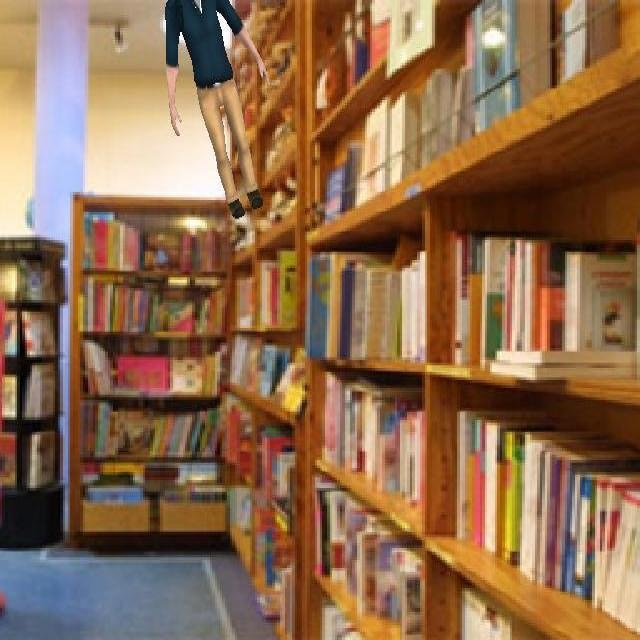obstacle: (162, 0, 272, 224)
